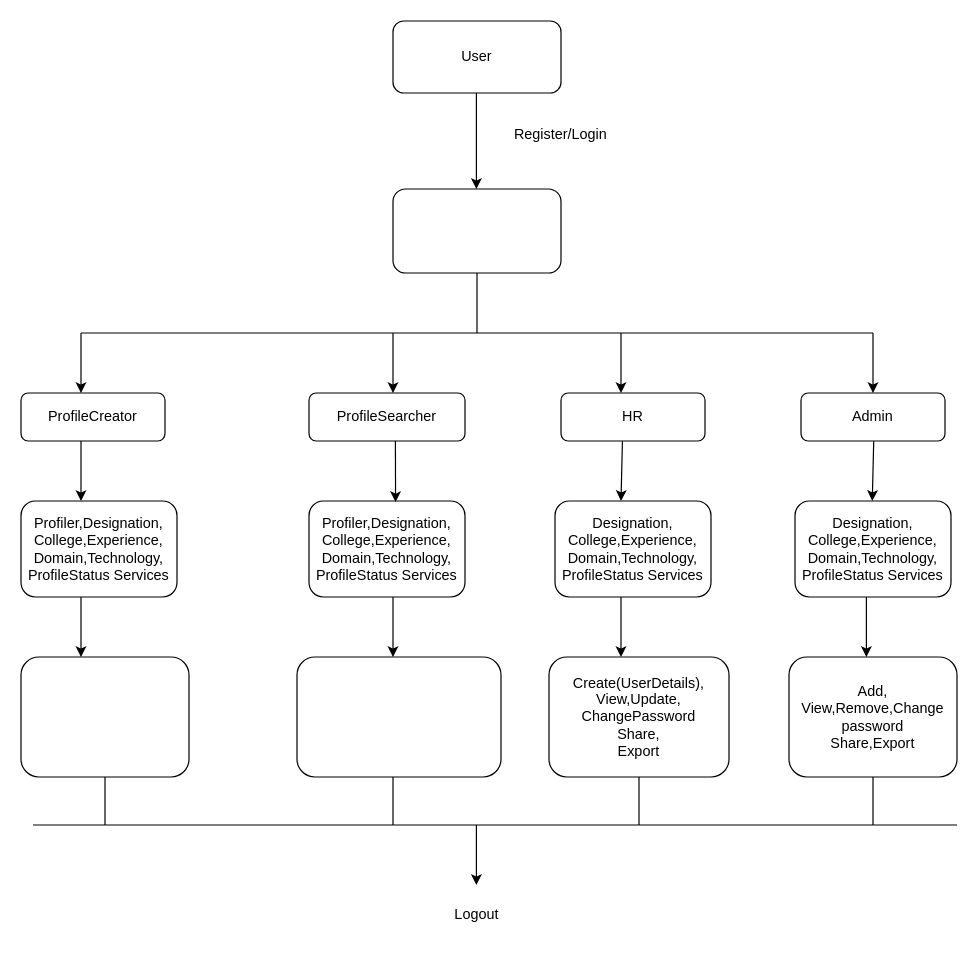
Image size: 979x954. Some labels were removed from this diagram. Here are the shapes that lost their labels. From the top down, the centre of each, then its label:
(476,230): Profile,Role, College,Experience, Domain,Technology, ProfileStatus Services
(104,716): Create(Profile),Update, SaveDraft, ChangePassword, View,Share, Export
(398,716): View,Share, RequestToUpdate, ChangePassword, ProfileHistory Export,Approvestatus
